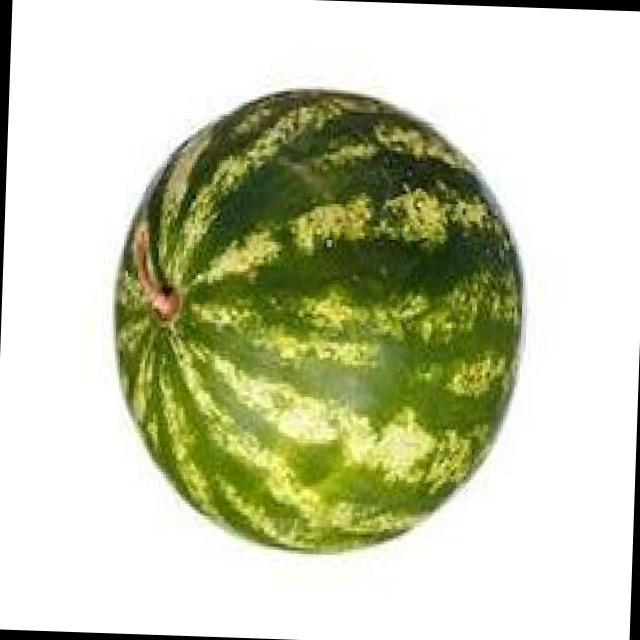watermelon: (116, 91, 521, 551)
